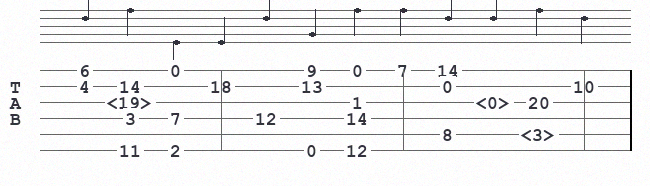0: (170, 62, 185, 78), (306, 142, 321, 158), (352, 62, 367, 78), (442, 78, 457, 94)
1: (352, 94, 367, 110)
10: (573, 78, 599, 94)
11: (119, 142, 145, 158)
12: (255, 110, 281, 126), (346, 142, 372, 158)
13: (301, 78, 327, 94)
14: (119, 78, 145, 94), (346, 110, 372, 126), (437, 62, 463, 78)
18: (210, 78, 236, 94)
2: (170, 142, 185, 158)
20: (528, 94, 554, 110)
3: (125, 110, 140, 126)
4: (79, 78, 94, 94)
6: (79, 62, 94, 78)
7: (170, 110, 185, 126), (397, 62, 412, 78)
8: (442, 126, 457, 142)
9: (306, 62, 321, 78)
harmonic: (107, 94, 157, 110), (476, 94, 515, 110), (521, 126, 560, 142)
